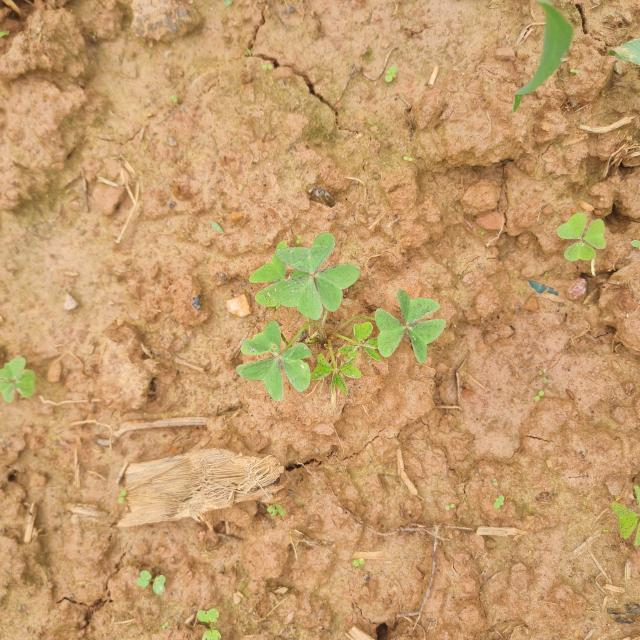weed: (244, 220, 464, 424), (556, 210, 614, 268), (4, 349, 44, 410), (611, 470, 640, 553), (130, 568, 169, 600), (195, 605, 220, 640), (382, 64, 403, 84)
